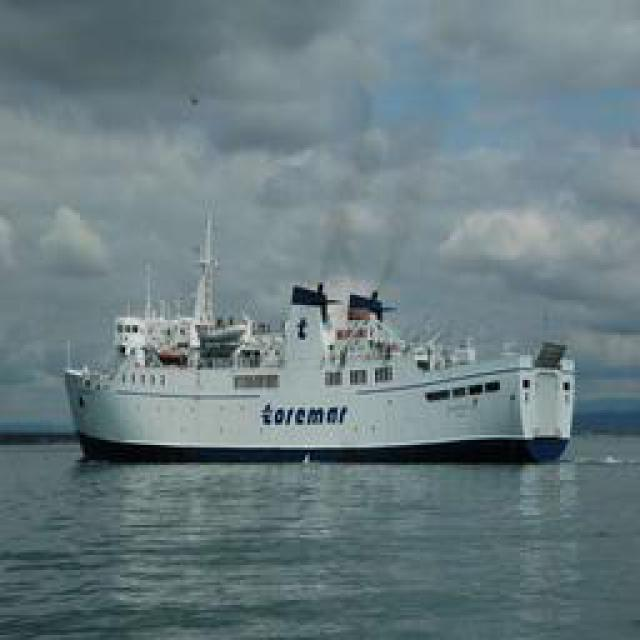Ship: (50, 231, 583, 464)
